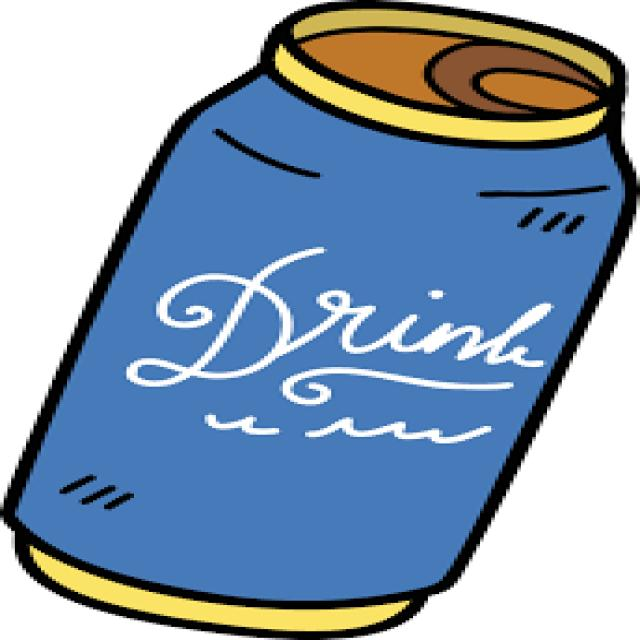Cans: (15, 2, 625, 634)
